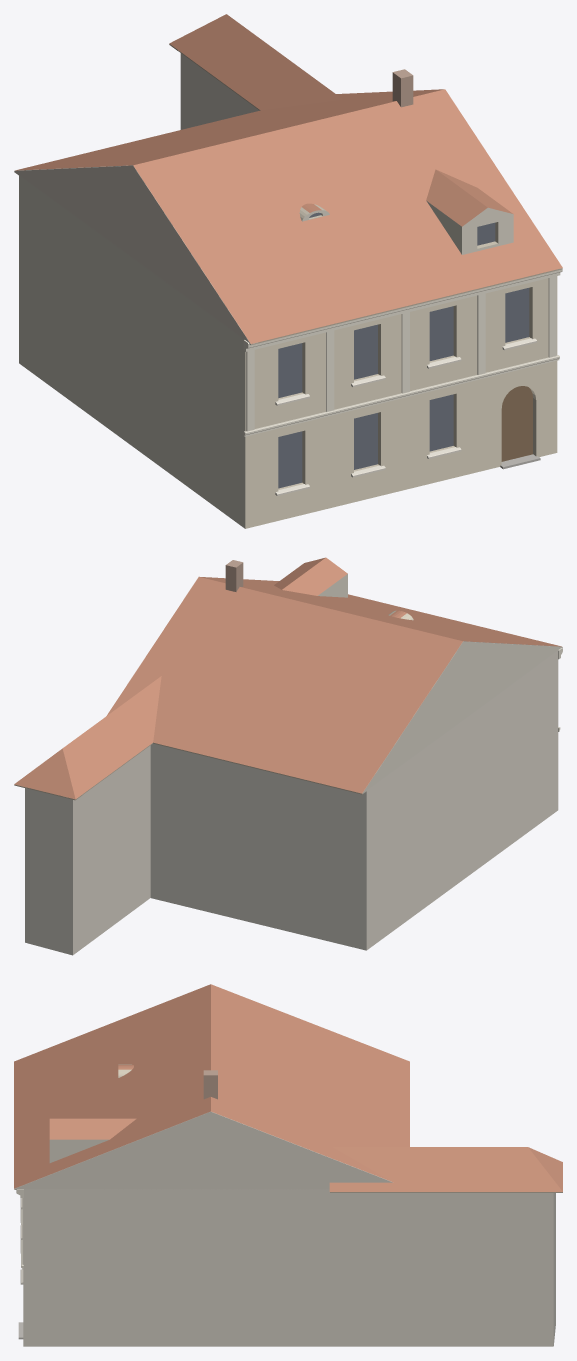
The picture shows the model from 3 angles, top to bottom: view 1: azimuth 30°, elevation 25°; view 2: azimuth 150°, elevation 25°; view 3: azimuth 270°, elevation 25°; orthographic projection. The views are drawn at different scales.
Visible parts, largest first — view 1: CP_265_Masonry, CP_265_Roof, CP_265_Gable_L_gable, CP_265_WingRoof_Rear_Wing, CP_265_Dormer_dormer1, CP_265_Cornice_eave_0, CP_265_Cornice_string_0, CP_265_Chimney_0, CP_265_Pilaster_3, CP_265_Pilaster_0, CP_265_Pilaster_1, CP_265_Pilaster_2 (+1 smaller); view 2: CP_265_Masonry, CP_265_Roof, CP_265_Gable_L_gable, CP_265_WingRoof_Rear_Wing, CP_265_Dormer_dormer1, CP_265_Chimney_0; view 3: CP_265_Masonry, CP_265_Roof, CP_265_Gable_R_gable, CP_265_WingRoof_Rear_Wing, CP_265_Dormer_dormer1.
Boxes of the visible parts, x1=… form: CP_265_Masonry: x1=19, y1=53, x2=557, y2=528; CP_265_Roof: x1=15, y1=89, x2=562, y2=343; CP_265_Gable_L_gable: x1=14, y1=165, x2=257, y2=344; CP_265_WingRoof_Rear_Wing: x1=169, y1=14, x2=342, y2=110; CP_265_Dormer_dormer1: x1=426, y1=169, x2=513, y2=254; CP_265_Cornice_eave_0: x1=243, y1=266, x2=562, y2=351; CP_265_Cornice_string_0: x1=243, y1=355, x2=559, y2=436; CP_265_Chimney_0: x1=392, y1=69, x2=413, y2=107; CP_265_Pilaster_3: x1=477, y1=293, x2=485, y2=374; CP_265_Pilaster_0: x1=246, y1=350, x2=254, y2=431; CP_265_Pilaster_1: x1=326, y1=330, x2=334, y2=411; CP_265_Pilaster_2: x1=401, y1=312, x2=409, y2=393; CP_265_Masonry: x1=25, y1=650, x2=558, y2=955; CP_265_Roof: x1=107, y1=576, x2=561, y2=793; CP_265_Gable_L_gable: x1=356, y1=641, x2=562, y2=793; CP_265_WingRoof_Rear_Wing: x1=14, y1=676, x2=161, y2=799; CP_265_Dormer_dormer1: x1=274, y1=557, x2=347, y2=597; CP_265_Chimney_0: x1=225, y1=560, x2=243, y2=591; CP_265_Masonry: x1=23, y1=1189, x2=555, y2=1346; CP_265_Roof: x1=14, y1=984, x2=409, y2=1188; CP_265_Gable_R_gable: x1=14, y1=1111, x2=392, y2=1189; CP_265_WingRoof_Rear_Wing: x1=329, y1=1147, x2=562, y2=1191; CP_265_Dormer_dormer1: x1=49, y1=1118, x2=136, y2=1162.
Bounding box in the file's own units: 13.05 × 11.97 × 23.15.
